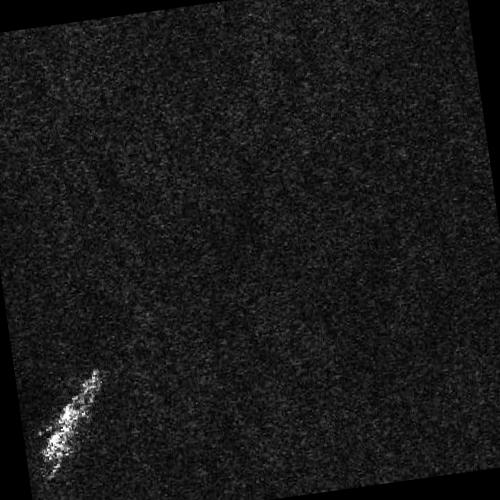ship: (45, 367, 102, 461)
